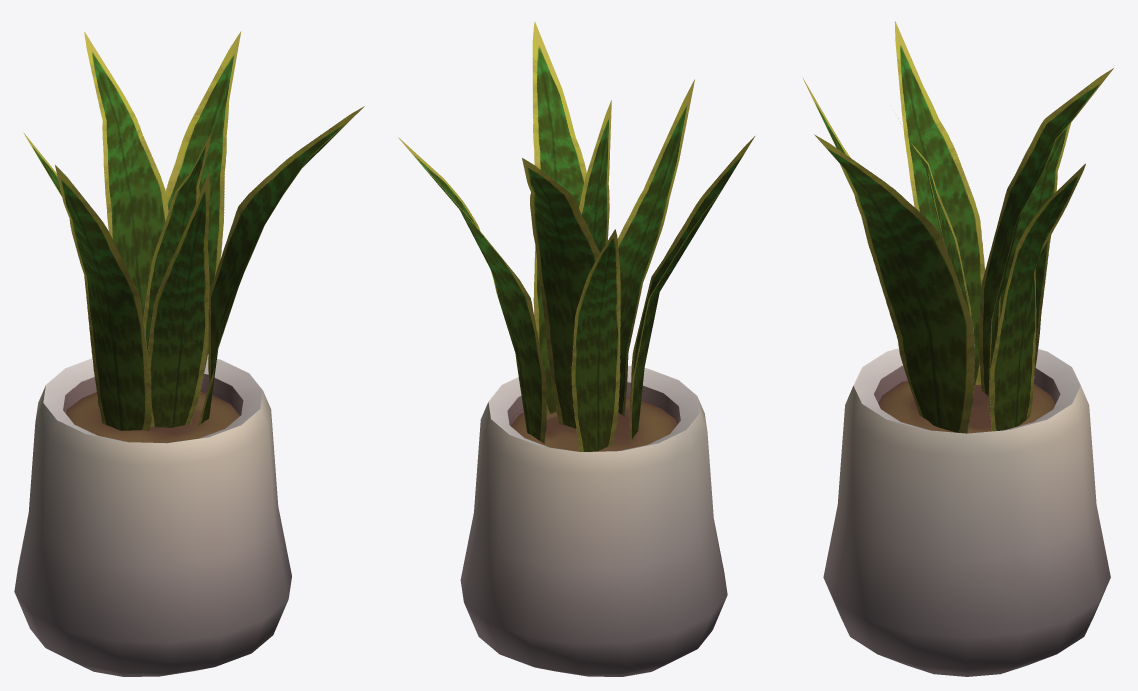
The model's file is MDL_BlockoutPlant.fbx.
The picture shows the model from 3 angles, left to right: view 1: azimuth 30°, elevation 25°; view 2: azimuth 150°, elevation 25°; view 3: azimuth 270°, elevation 25°; orthographic projection. The views are drawn at different scales.
Parts seen in each view (by area): view 1: MDL_PlantFlat; view 2: MDL_PlantFlat; view 3: MDL_PlantFlat.
Boxes of the visible parts, x1,y1,x2,y2 form: MDL_PlantFlat: [14, 31, 364, 676]; MDL_PlantFlat: [398, 22, 754, 676]; MDL_PlantFlat: [803, 21, 1113, 676].
Size of the model in its own units: 112 by 203 by 106.
